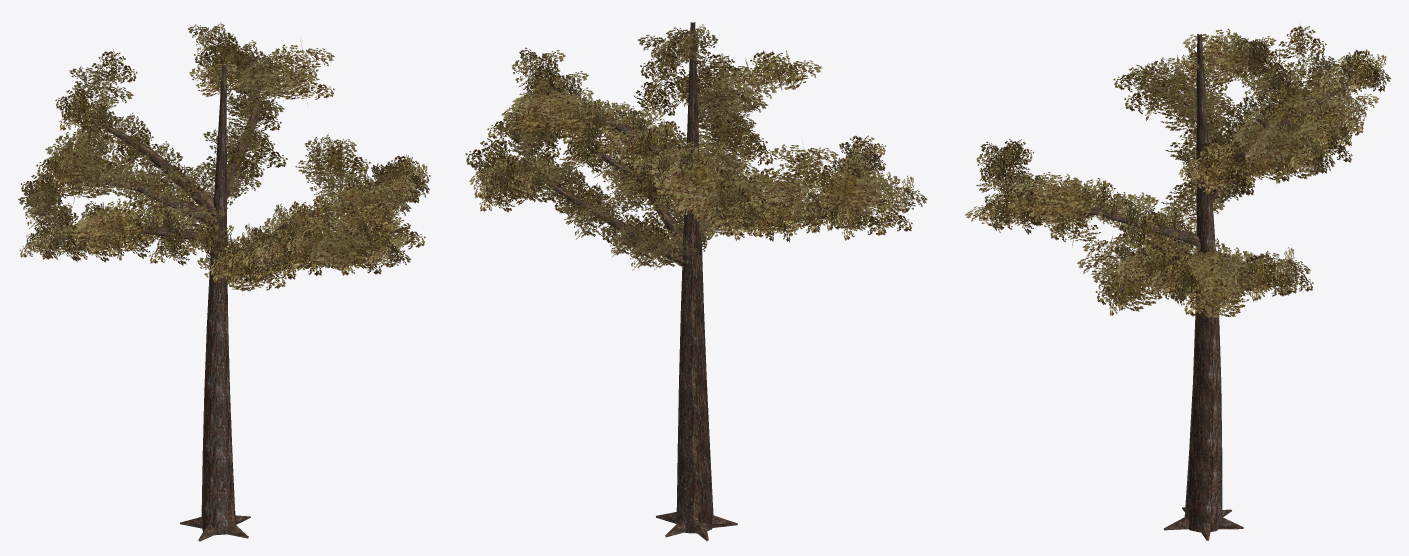
The model's file is tree_3d_03_golden_beige_lod1.glb.
3 views of the same model, side by side, from view 1: azimuth 30°, elevation 25°; view 2: azimuth 150°, elevation 25°; view 3: azimuth 270°, elevation 25° (orthographic). The views are drawn at different scales.
Parts seen in each view (by area): view 1: foliage_cards, wood_geometry; view 2: foliage_cards, wood_geometry; view 3: foliage_cards, wood_geometry.
Part boxes in pixels (x1=…): foliage_cards: x1=18, y1=22, x2=430, y2=291; wood_geometry: x1=54, y1=65, x2=410, y2=541; foliage_cards: x1=465, y1=24, x2=927, y2=270; wood_geometry: x1=542, y1=22, x2=881, y2=541; foliage_cards: x1=964, y1=25, x2=1390, y2=323; wood_geometry: x1=1005, y1=34, x2=1351, y2=540.
Bounding box in the file's own units: 9.89 × 10.63 × 8.38.
Materials: 2 (2 with a texture image).
